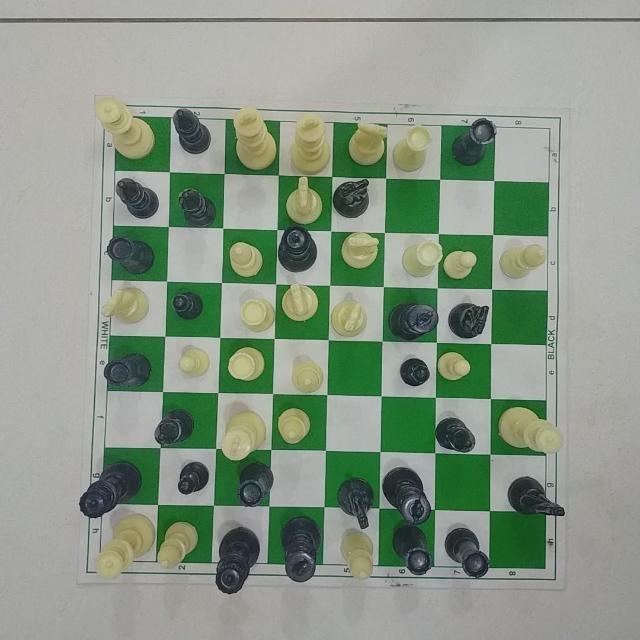black-bishop: (168, 104, 216, 156), (113, 177, 159, 221), (150, 406, 195, 450), (433, 411, 477, 455), (174, 185, 218, 228)
black-king: (383, 463, 435, 526), (280, 515, 324, 585), (388, 298, 438, 340)
black-knight: (506, 471, 568, 519), (332, 472, 378, 531), (448, 296, 492, 338), (332, 177, 373, 222)
black-pawn: (170, 287, 208, 323), (175, 459, 212, 495), (397, 354, 433, 388)
black-queen: (69, 459, 146, 520), (215, 522, 263, 597), (279, 225, 319, 275)
black-rook: (449, 115, 499, 173), (443, 525, 493, 580), (100, 347, 161, 390), (105, 232, 157, 277), (391, 525, 433, 577), (237, 461, 275, 507)
white-bishop: (338, 531, 380, 585), (499, 240, 549, 285), (157, 520, 199, 569), (226, 238, 266, 278), (275, 407, 314, 445), (289, 358, 324, 396)
white-king: (231, 102, 279, 172), (288, 112, 335, 174), (219, 407, 269, 462)
white-knight: (283, 174, 326, 226), (347, 119, 387, 171), (100, 284, 150, 324), (277, 282, 322, 324), (339, 229, 380, 271), (332, 297, 373, 339)
white-pawn: (175, 344, 214, 380), (436, 349, 472, 388), (444, 245, 476, 285)
white-queen: (91, 95, 158, 159), (496, 403, 567, 459), (92, 516, 156, 577)
white-rook: (394, 122, 438, 174), (400, 237, 444, 279), (224, 344, 267, 383), (236, 294, 278, 332)
